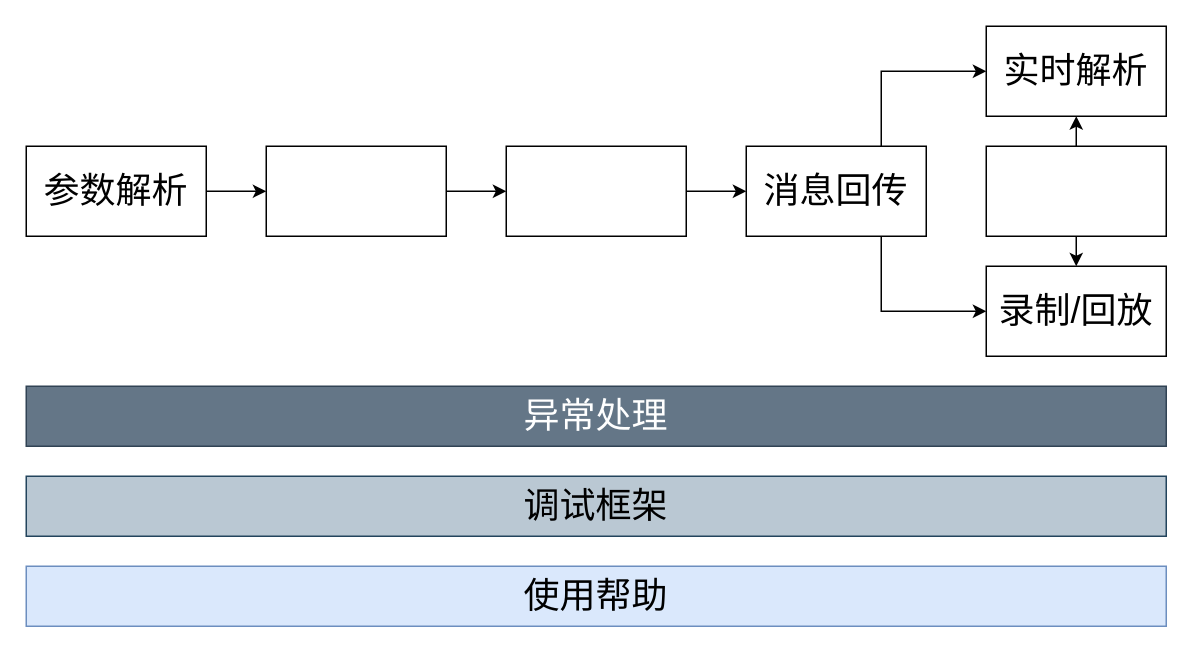
The diagram is 1193 pixels wide and 653 high, and some of its shapes have lost their labels. The shapes that lost their labels are listed below. From the top down, each one's centre as x and y in pixels, then its label:
At point (355, 190): "内核消息捕获方案".
At point (595, 190): "方案注入".
At point (1075, 190): "消息格式适配".
